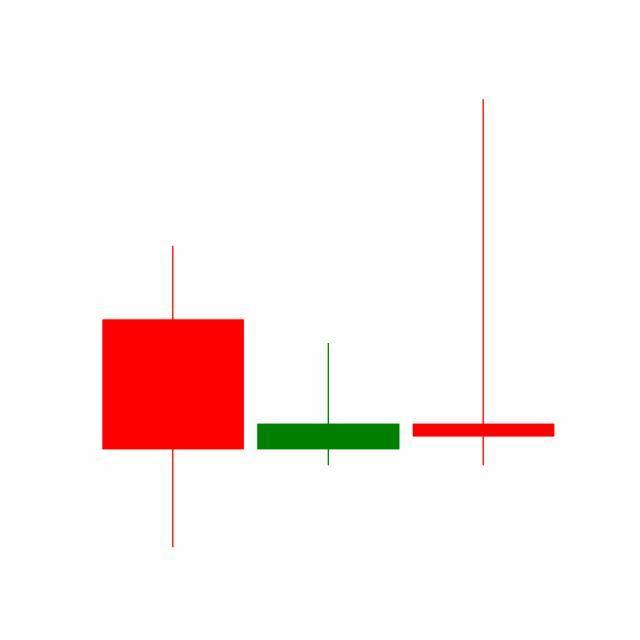Spinning Top: (406, 95, 562, 470)
